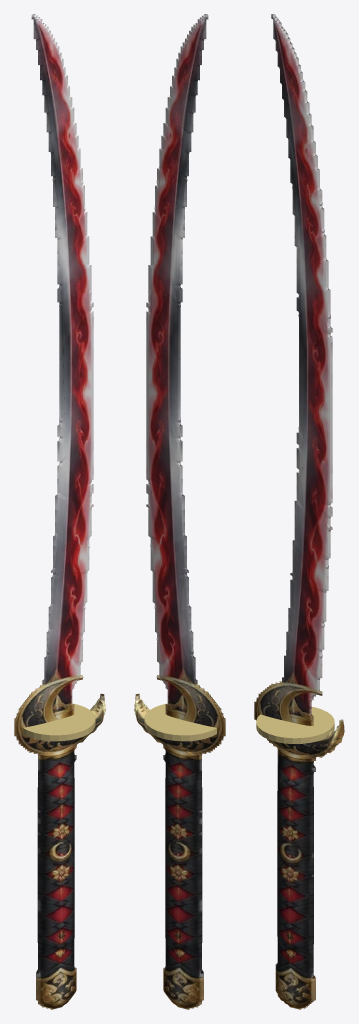
File: w_katana_moon.glb
The picture shows the model from 3 angles, left to right: view 1: azimuth 30°, elevation 25°; view 2: azimuth 150°, elevation 25°; view 3: azimuth 330°, elevation 25°; orthographic projection.
Parts seen in each view (by area): view 1: CrimsonMoon; view 2: CrimsonMoon; view 3: CrimsonMoon.
Boxes of the visible parts, box(x1,y1,x2,y2) form: CrimsonMoon: box(14, 14, 105, 1009); CrimsonMoon: box(134, 14, 225, 1009); CrimsonMoon: box(254, 14, 344, 1009).
Bounding box in the file's own units: 0.0941 × 0.9999 × 0.072.
2 materials, 1 textured.
